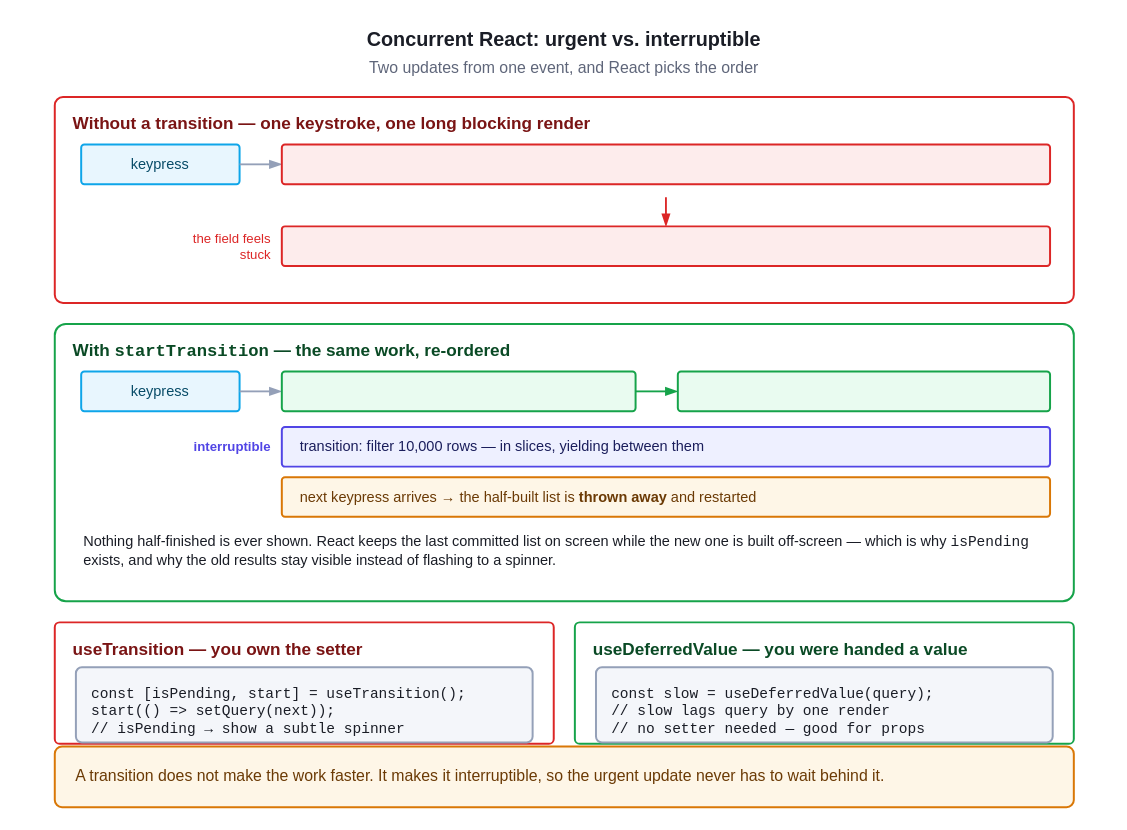
This 1127x830 diagram has some shape labels left out. The centre of each missing label's shape, as x and y in pixels:
"paint — 4 ms, character is on screen" belongs at point 863,391.
"paint — the typed character finally appears" belongs at point 665,245.
"render input + filter 10,000 rows ⟵ 240 ms, uninterruptible" belongs at point 665,164.
"urgent: render the input" belongs at point 458,391.
